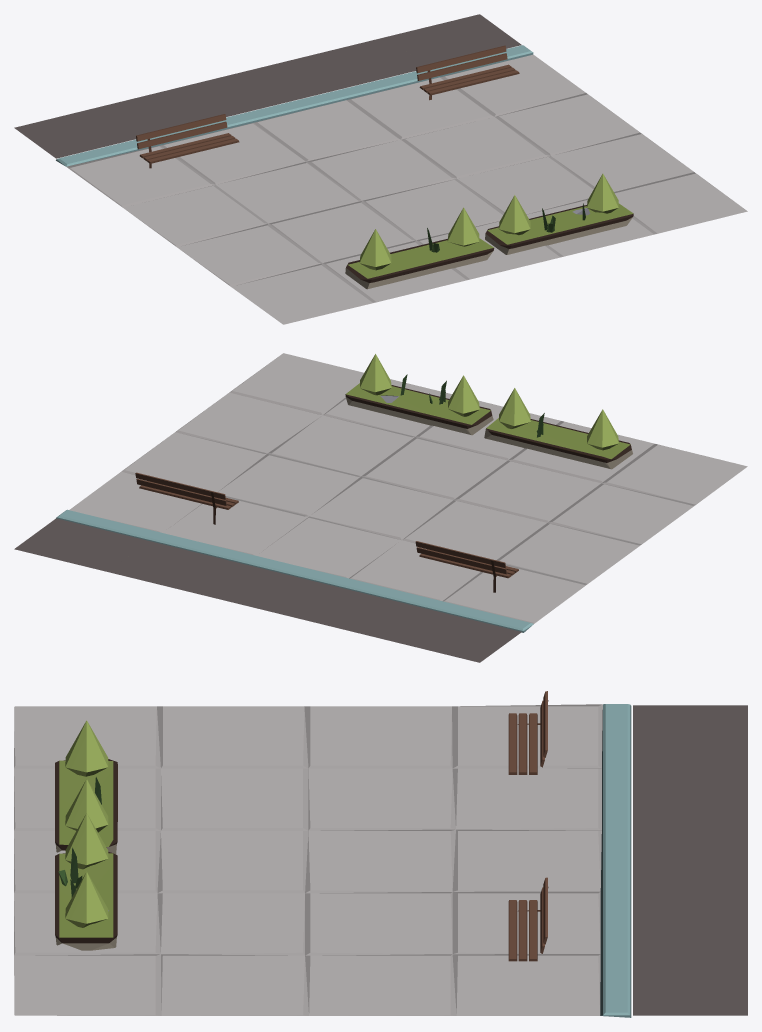
File: QmUy8TkVPKptAKbvcLD6gWY1Lccdor2beTM6aPgBrk38An_lod2.fbx
3 renders of one model, top to bottom at view 1: azimuth 30°, elevation 25°; view 2: azimuth 150°, elevation 25°; view 3: azimuth 270°, elevation 25°, orthographic. The views are drawn at different scales.
Visible parts, largest first — view 1: Entity_512; view 2: Entity_512; view 3: Entity_512.
Part boxes in pixels (x1=…): Entity_512: x1=14, y1=14, x2=747, y2=324; Entity_512: x1=14, y1=353, x2=747, y2=662; Entity_512: x1=14, y1=691, x2=747, y2=1017.
Bounding box in the file's own units: 16000 × 1591 × 15918.
Materials: 1 (1 with a texture image).
